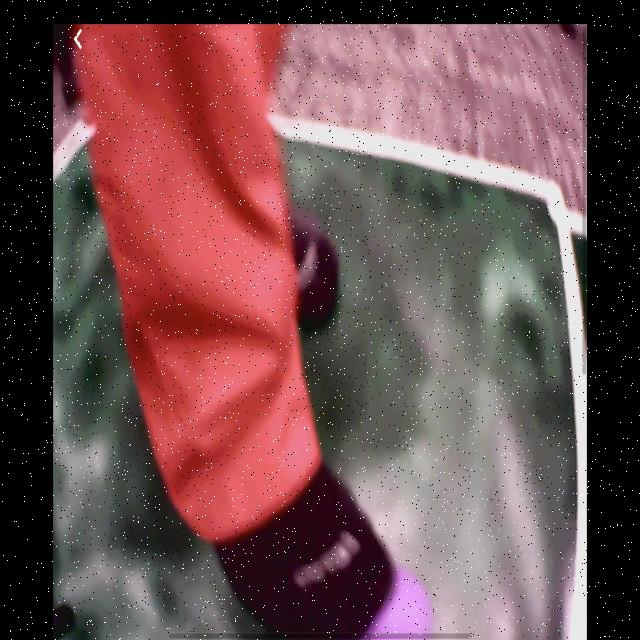ball: (356, 565, 436, 640)
